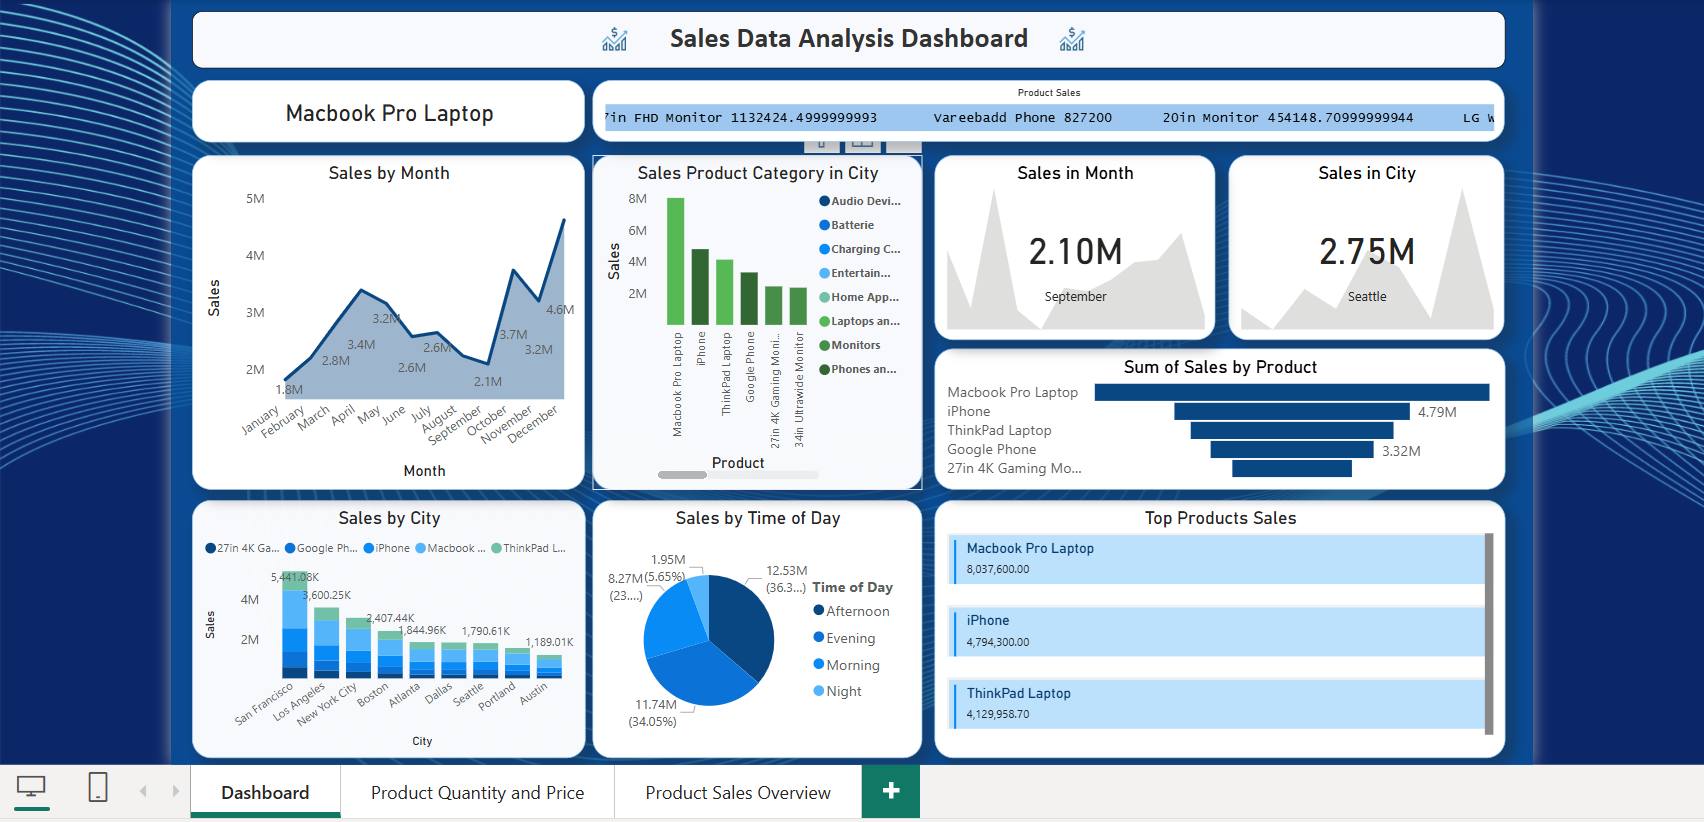

The page's visual inventory and layout, read from the dashboard file:
{"tool":"powerbi","page":{"name":"Dashboard","canvas":[1280,720],"ordinal":0},"visuals":[{"type":"columnChart","title":"Sales by City","fields":{"Category":["Sales Data Analysis.City"],"Y":["Sales Data Analysis.Sales"],"Series":["Sales Data Analysis.Product"]},"box":[19.3,470.7,370,242.7],"z":0},{"type":"textbox","box":[19.3,10.7,1234.7,54],"z":1000},{"type":"stackedAreaChart","title":"Sales by Month","fields":{"Y":["Sales Data Analysis.Sales"],"Category":["Sales Data Analysis.Order Date.Variation.Date Hierarchy.Month","Sales Data Analysis.Order Date.Variation.Date Hierarchy.Day"]},"box":[20,146.7,369.3,314.7],"z":2000},{"type":"pieChart","title":"Sales by Time of Day","fields":{"Y":["Sales Data Analysis.Sales"],"Category":["Sales Data Analysis.Time of Day"]},"box":[396.7,470.7,310,242.7],"z":3000},{"type":"kpi","title":"Sales in City","fields":{"Indicator":["Sales Data Analysis.Sales"],"TrendLine":["Sales Data Analysis.City"]},"box":[994.7,147.3,259.3,174],"z":4000},{"type":"columnChart","title":"Sales Product Category in City","fields":{"Y":["Sales Data Analysis.Sales"],"Category":["Sales Data Analysis.Product"],"Series":["Sales Data Analysis.Product Category"]},"box":[396.7,146.7,310,314.7],"z":5000},{"type":"multiRowCard","title":"Top Products Sales","fields":{"Values":["Sales Data Analysis.Sales","Sales Data Analysis.Product"]},"box":[717.3,470.7,536.7,242.7],"z":6000},{"type":"funnel","fields":{"Category":["Sales Data Analysis.Product"],"Y":["Sales Data Analysis.Sales"]},"box":[717.3,328.7,536.7,132.7],"z":7000},{"type":"card","fields":{"Values":["Sales Data Analysis.Product"]},"box":[20,76,369.3,58.7],"z":8000},{"type":"kpi","title":"Sales in Month","fields":{"Indicator":["Sales Data Analysis.Sales"],"TrendLine":["Sales Data Analysis.MonthName"]},"box":[717.3,146.7,264,174],"z":9000},{"type":"ScrollingTextVisual1448795304508","title":"Product Sales","fields":{"Category":["Sales Data Analysis.Product"],"Measure Absolute":["Sales Data Analysis.Sales"]},"box":[396.7,76,857.3,58],"z":10000},{"type":"actionButton","box":[1481.5,540,18.5,346.2],"z":11000},{"type":"image","box":[396.8,19,42.5,37.9],"z":12000},{"type":"image","box":[825.7,19,42.5,37.9],"z":13000}]}

Visuals, with their boxes in screenshot pixels (x1, y1, x2, y2):
"Sales by City" columnChart: locate(181, 497, 582, 760)
textbox: locate(181, 0, 1520, 57)
"Sales by Month" stackedAreaChart: locate(181, 146, 582, 487)
"Sales by Time of Day" pieChart: locate(590, 497, 926, 760)
"Sales in City" kpi: locate(1239, 146, 1520, 335)
"Sales Product Category in City" columnChart: locate(590, 146, 926, 487)
"Top Products Sales" multiRowCard: locate(938, 497, 1520, 760)
funnel - Sales Data Analysis.Product x Sales Data Analysis.Sales: locate(938, 343, 1520, 487)
card - Sales Data Analysis.Product: locate(181, 69, 582, 133)
"Sales in Month" kpi: locate(938, 146, 1224, 335)
"Product Sales" ScrollingTextVisual1448795304508: locate(590, 69, 1520, 132)
image: locate(590, 7, 636, 48)
image: locate(1055, 7, 1101, 48)
